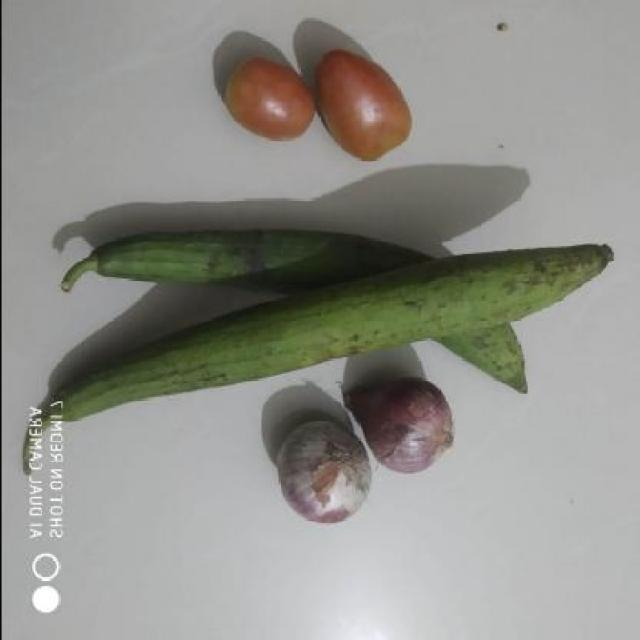Onion: (260, 414, 380, 524), (349, 364, 457, 472)
Sponge Gourd: (32, 208, 617, 384)
Tomato: (314, 42, 422, 158)
